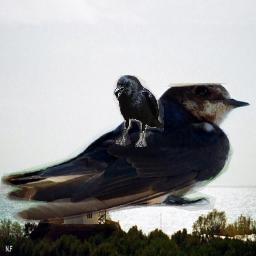Crow: (113, 75, 164, 147)
Swallow: (1, 83, 251, 223)
